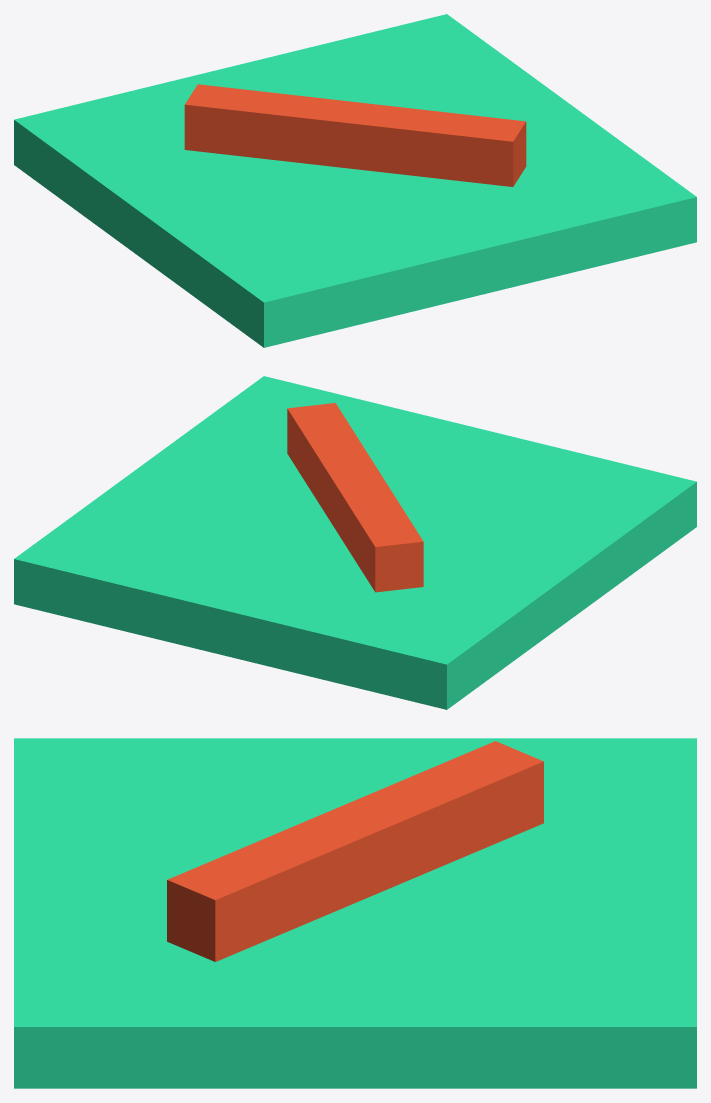
Rendered from track_bumper.fbx.
3 renders of one model, top to bottom at view 1: azimuth 30°, elevation 25°; view 2: azimuth 150°, elevation 25°; view 3: azimuth 270°, elevation 25°, orthographic. The views are drawn at different scales.
Visible parts, largest first — view 1: open_diagonal_25; view 2: open_diagonal_25; view 3: open_diagonal_25.
Boxes of the visible parts, bbox=[...] form: open_diagonal_25: bbox=[14, 14, 696, 347]; open_diagonal_25: bbox=[14, 376, 696, 709]; open_diagonal_25: bbox=[14, 738, 696, 1088].
Bounding box in the file's own units: 10 × 2 × 10.
